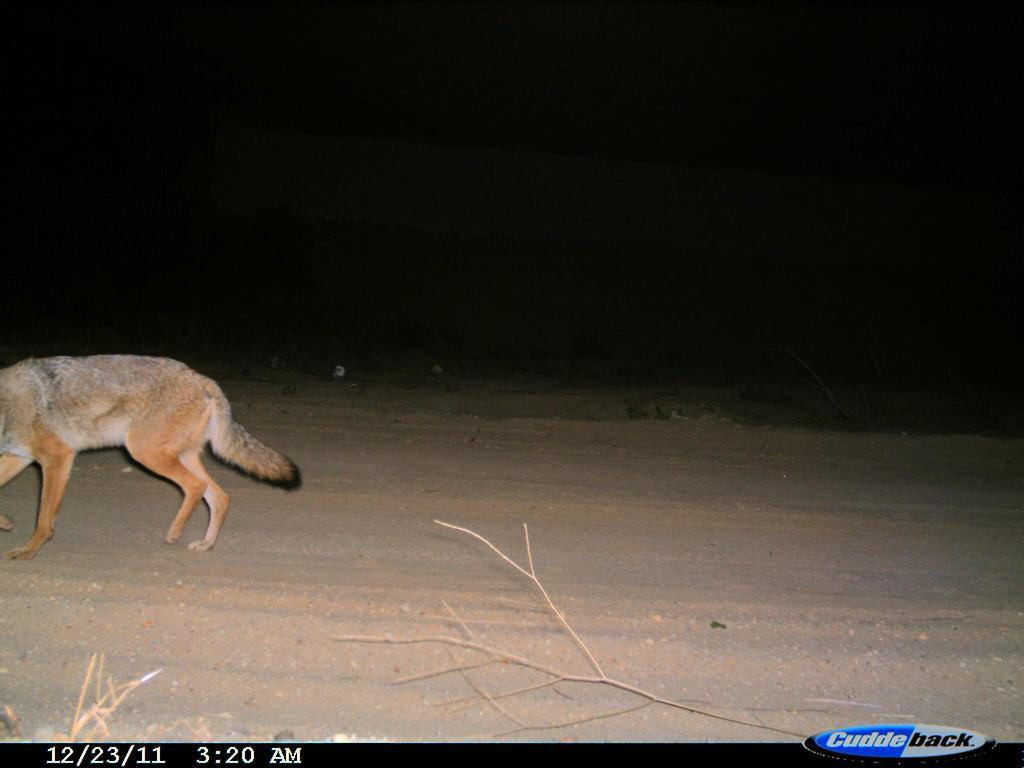coyote: (8, 347, 309, 587)
